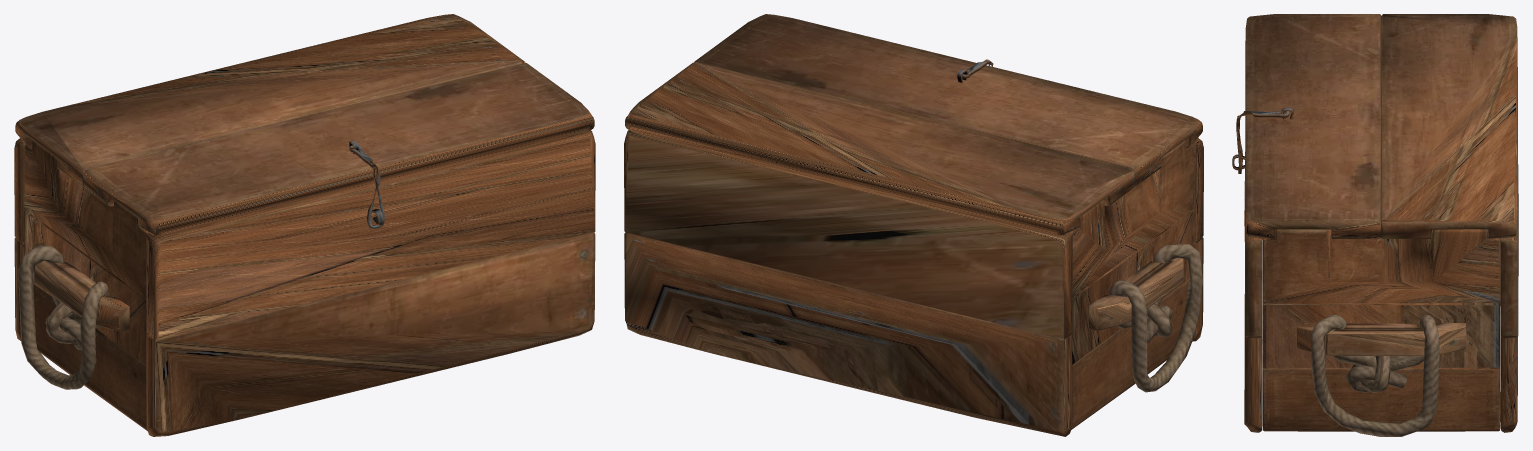
File: wooden_crate_01.glb
3 renders of one model, left to right at view 1: azimuth 30°, elevation 25°; view 2: azimuth 150°, elevation 25°; view 3: azimuth 270°, elevation 25°, orthographic. The views are drawn at different scales.
Parts seen in each view (by area): view 1: wooden_crate_01, wooden_crate_01_lid, wooden_crate_01_latch; view 2: wooden_crate_01, wooden_crate_01_lid; view 3: wooden_crate_01_lid, wooden_crate_01, wooden_crate_01_latch.
Part boxes in pixels (x1=…): wooden_crate_01: x1=14, y1=130, x2=595, y2=436; wooden_crate_01_lid: x1=15, y1=14, x2=594, y2=236; wooden_crate_01_latch: x1=349, y1=145, x2=384, y2=228; wooden_crate_01: x1=624, y1=130, x2=1203, y2=436; wooden_crate_01_lid: x1=625, y1=14, x2=1202, y2=235; wooden_crate_01_lid: x1=1245, y1=14, x2=1517, y2=238; wooden_crate_01: x1=1232, y1=37, x2=1518, y2=436; wooden_crate_01_latch: x1=1236, y1=111, x2=1289, y2=173.
Size of the model in its own units: 0.8245 by 0.3496 by 0.4083.
1 material, 1 textured.
